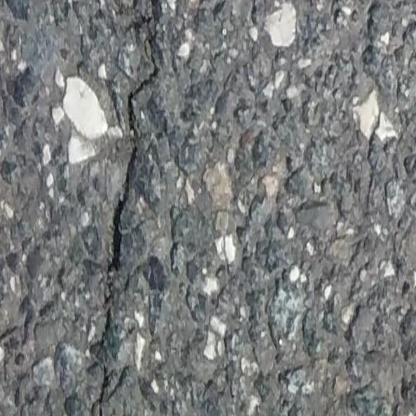Cracks: (106, 0, 175, 282), (88, 288, 127, 416)
